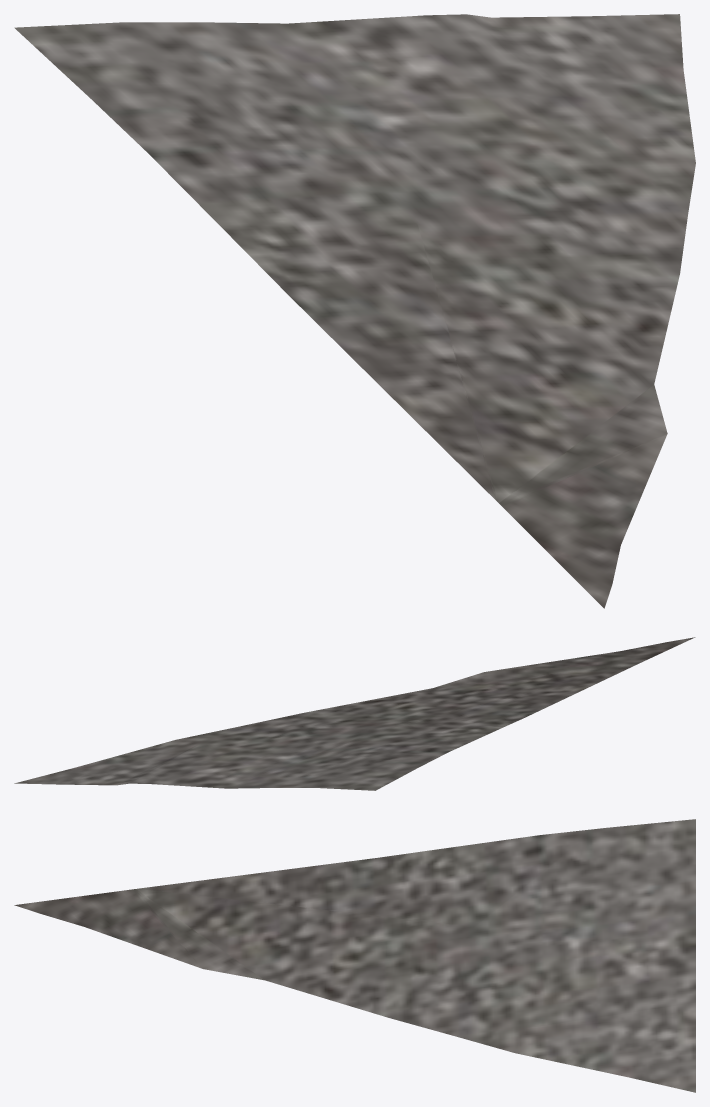
The picture shows the model from 3 angles, top to bottom: view 1: azimuth 30°, elevation 25°; view 2: azimuth 150°, elevation 25°; view 3: azimuth 270°, elevation 25°; orthographic projection. The views are drawn at different scales.
Size of the model in its own units: 0.4278 by 0.0914 by 0.6569.
Materials: 1 (1 with a texture image).
